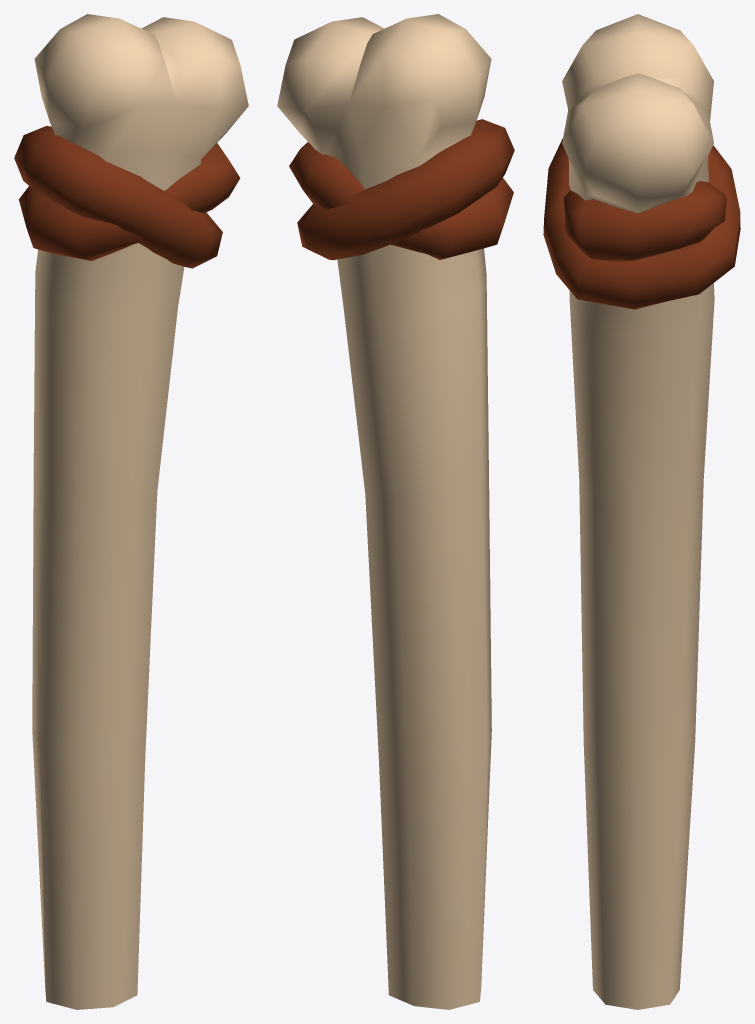
The model's file is PoleBone.fbx.
3 views of the same model, side by side, from view 1: azimuth 30°, elevation 25°; view 2: azimuth 150°, elevation 25°; view 3: azimuth 270°, elevation 25° (orthographic).
Parts seen in each view (by area): view 1: PoleBone; view 2: PoleBone; view 3: PoleBone.
Part boxes in pixels (x1,y1,x2,y2): PoleBone: (14,14,248,1009); PoleBone: (277,14,514,1009); PoleBone: (543,14,740,1009).
Bounding box in the file's own units: 0.9409 × 4.12 × 0.7572.
